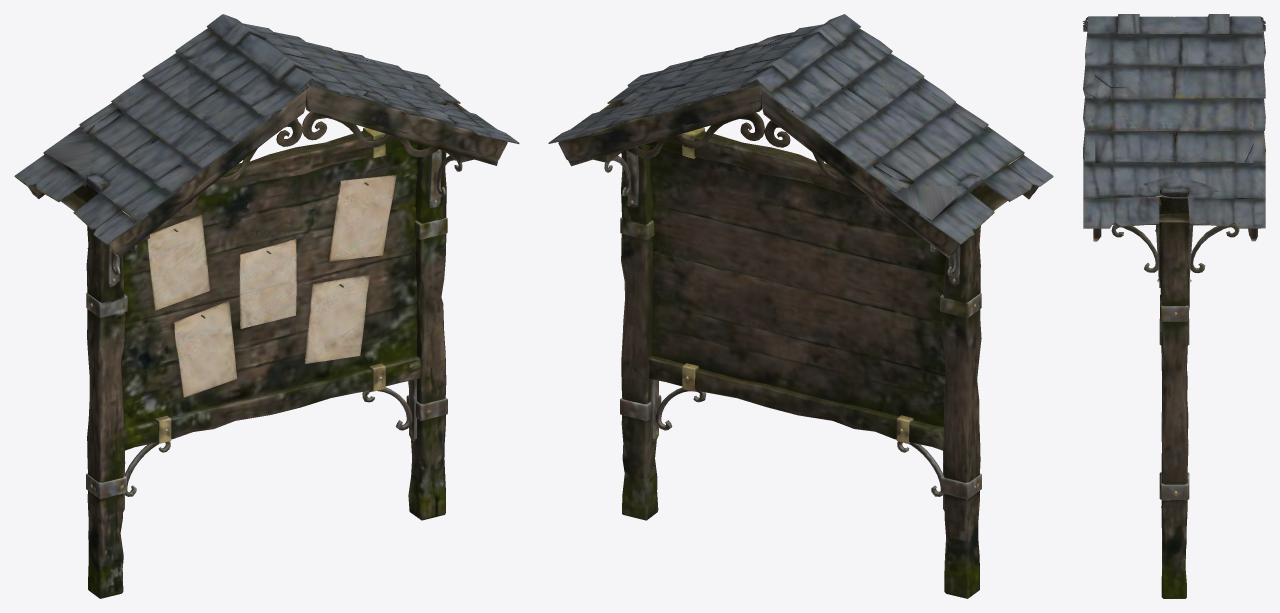
Rendered from bounty_board.glb.
The picture shows the model from 3 angles, left to right: view 1: azimuth 30°, elevation 25°; view 2: azimuth 150°, elevation 25°; view 3: azimuth 270°, elevation 25°; orthographic projection.
Parts seen in each view (by area): view 1: bounty_board_p2; view 2: bounty_board_p2; view 3: bounty_board_p2.
Part boxes in pixels (x1,y1,x2,y2): bounty_board_p2: (14, 14, 519, 598); bounty_board_p2: (548, 14, 1053, 598); bounty_board_p2: (1082, 14, 1265, 598).
Size of the model in its own units: 1.7 by 2 by 0.6636.
1 material, 1 textured.
